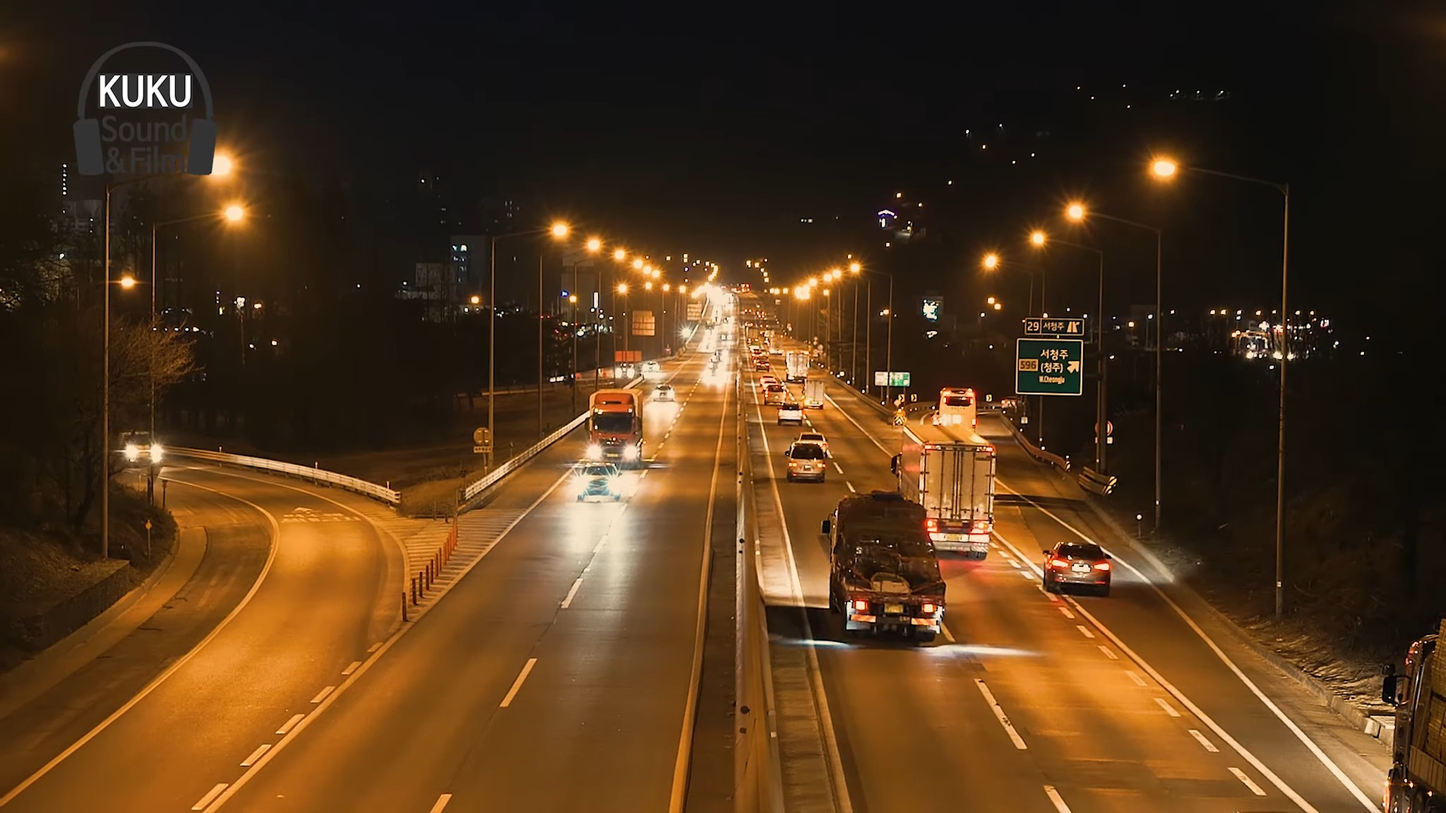car: (1040, 542, 1116, 591), (781, 438, 829, 484), (572, 466, 616, 498)
truck: (823, 487, 955, 649), (894, 422, 1001, 559), (583, 385, 650, 473)
